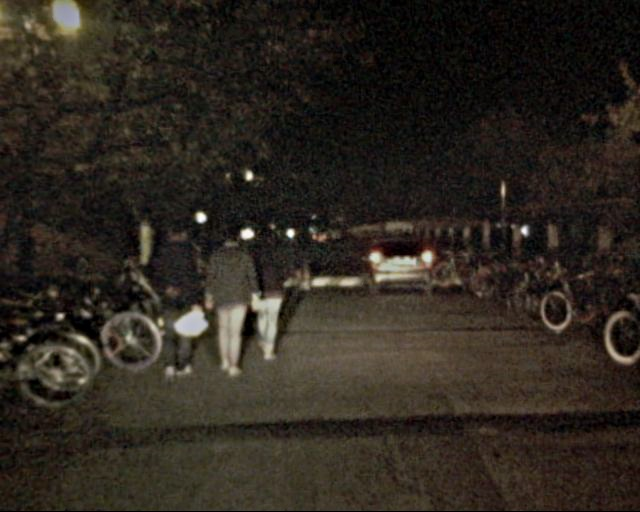person: (144, 220, 208, 379), (198, 224, 258, 381), (237, 226, 290, 359), (279, 222, 310, 290)
